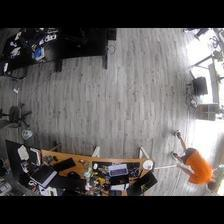fall: (172, 129, 215, 188)
